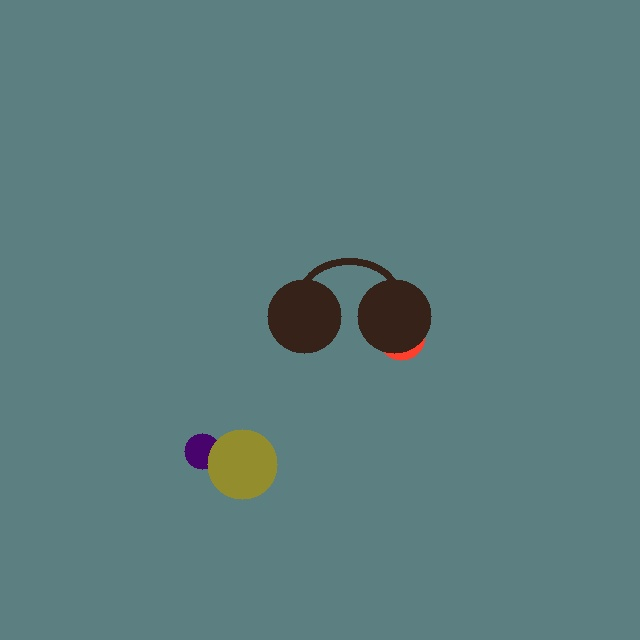over_ear: (263, 249, 435, 357)
